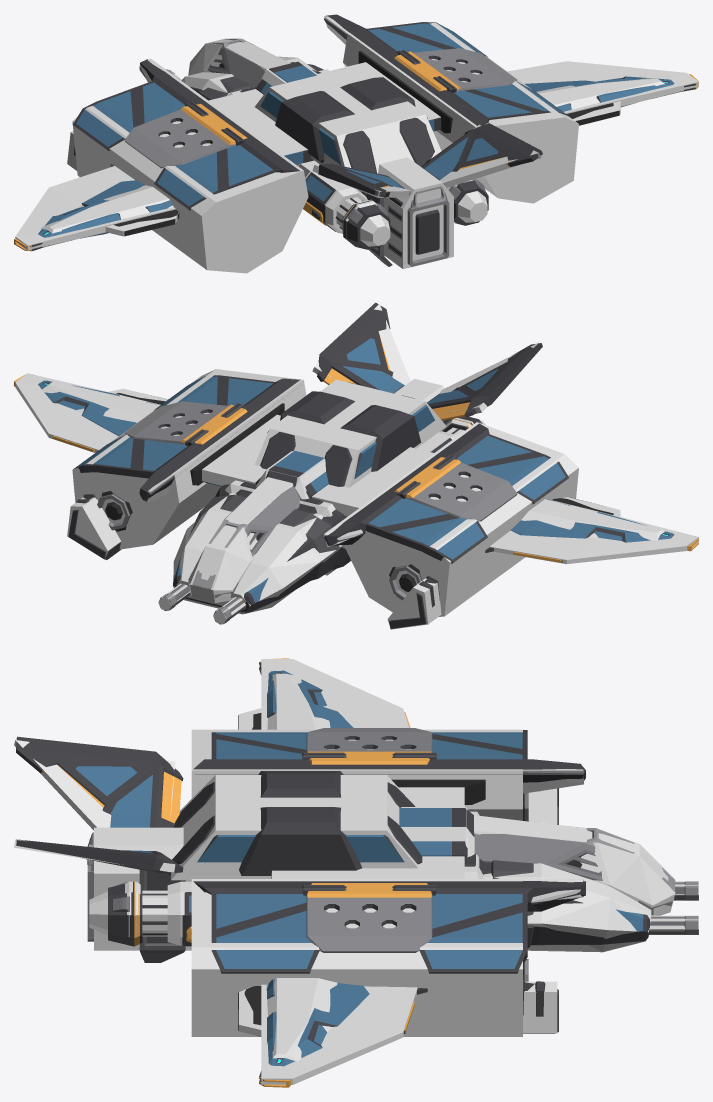
File: SM_Ship_Bomber_03.fbx
The picture shows the model from 3 angles, top to bottom: view 1: azimuth 30°, elevation 25°; view 2: azimuth 150°, elevation 25°; view 3: azimuth 270°, elevation 25°; orthographic projection. The views are drawn at different scales.
Parts seen in each view (by area): view 1: SM_Ship_Bomber_03_ConvexHulls, SM_Ship_Bomber_03_LOD0; view 2: SM_Ship_Bomber_03_ConvexHulls, SM_Ship_Bomber_03_LOD0; view 3: SM_Ship_Bomber_03_LOD0, SM_Ship_Bomber_03_ConvexHulls.
Part boxes in pixels (bbox=[...]): SM_Ship_Bomber_03_ConvexHulls: bbox=[15, 16, 698, 273]; SM_Ship_Bomber_03_LOD0: bbox=[14, 14, 698, 266]; SM_Ship_Bomber_03_ConvexHulls: bbox=[15, 304, 698, 629]; SM_Ship_Bomber_03_LOD0: bbox=[14, 302, 698, 628]; SM_Ship_Bomber_03_LOD0: bbox=[16, 658, 698, 1087]; SM_Ship_Bomber_03_ConvexHulls: bbox=[14, 659, 698, 1084].
Size of the model in its own units: 2072 by 3028 by 547.
Materials: 1 (1 with a texture image).
